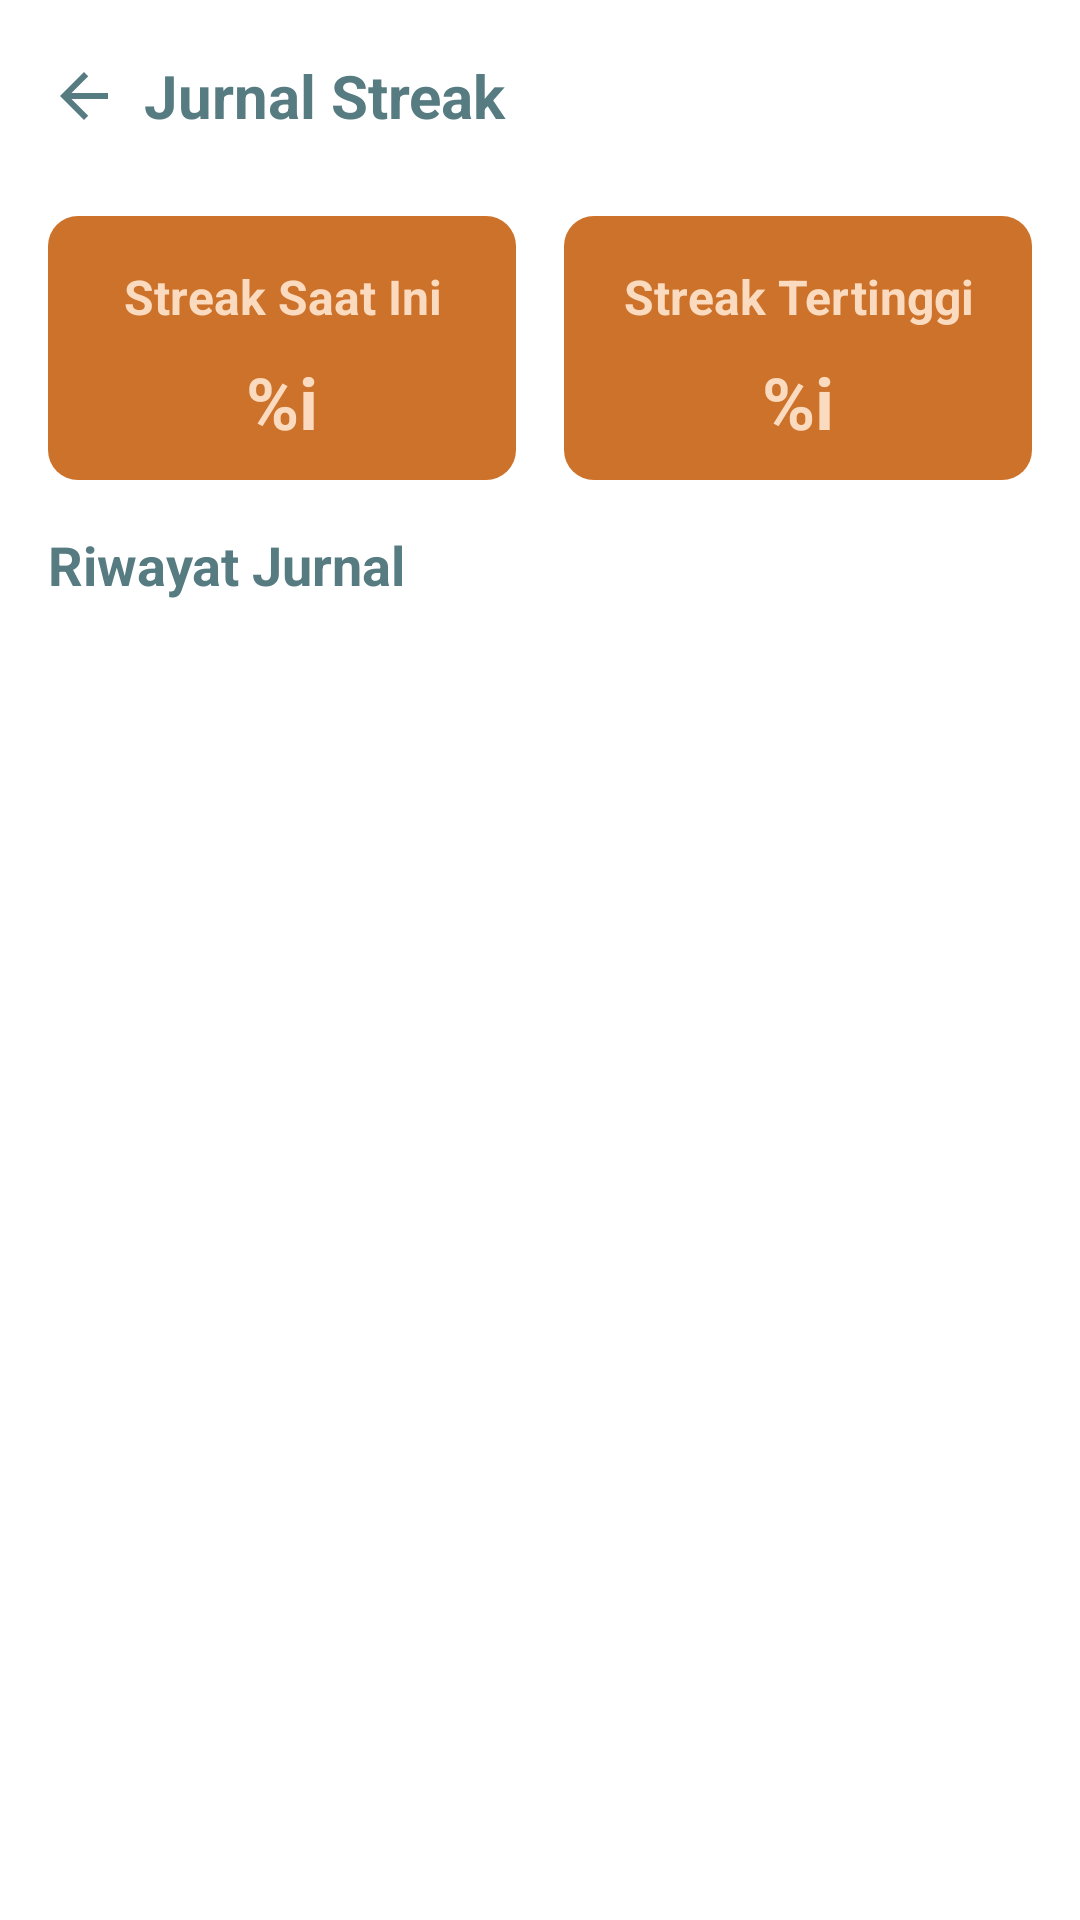

Where icons sit on this 1080w x 1920h app screen, as (x1, y1, x2, y2):
Kembali: (60, 72, 108, 120)
